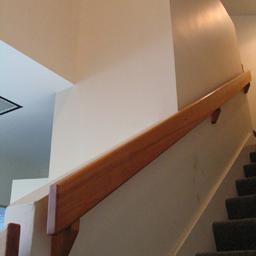Escaleras: (51, 69, 252, 255)
